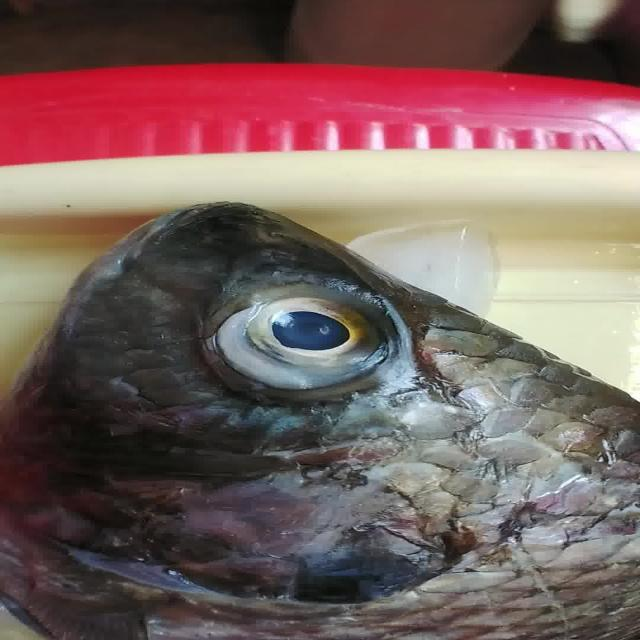Fresh: (206, 286, 405, 398)
